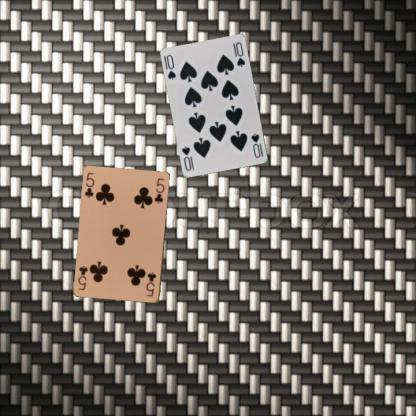10s: (248, 130, 264, 160), (164, 52, 177, 81)
5c: (82, 170, 96, 199), (144, 270, 157, 297)
